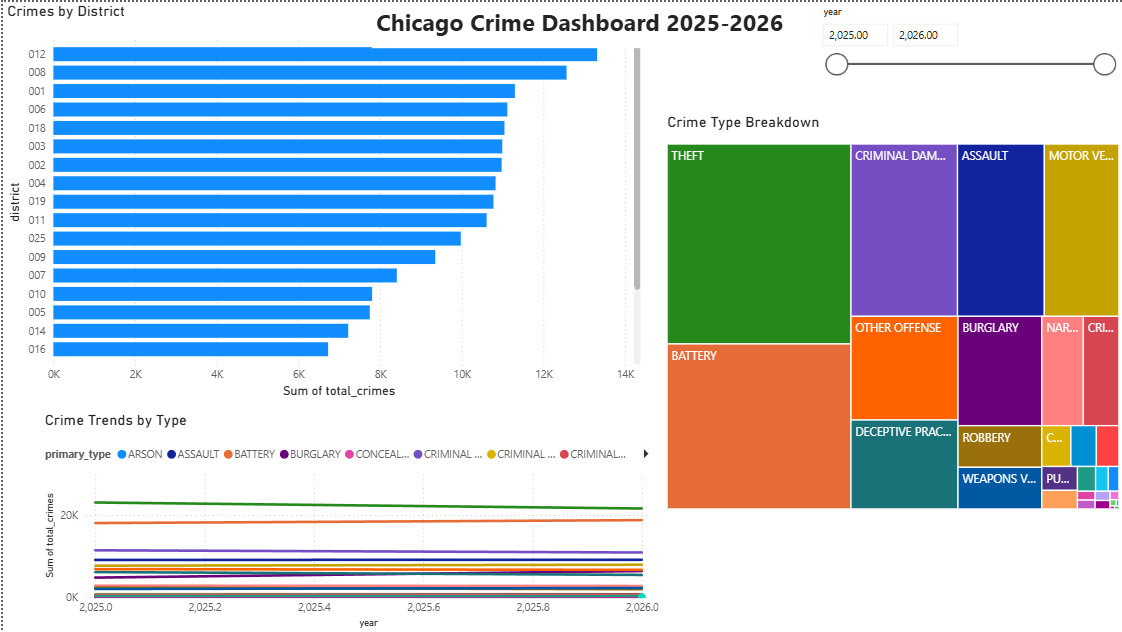

What the dashboard file says about the page in this screenshot:
{"tool":"powerbi","page":{"name":"Page 1","canvas":[1280,720],"ordinal":0},"visuals":[{"type":"clusteredBarChart","title":"Crimes by District","fields":{"Category":["mart_crimes_by_district.district"],"Y":["Sum(mart_crimes_by_district.total_crimes)"]},"box":[0,0,734.1,456.9],"z":0},{"type":"lineChart","title":"Crime Trends by Type","fields":{"Y":["Sum(mart_crimes_by_type_year.total_crimes)"],"Category":["mart_crimes_by_type_year.year"],"Series":["mart_crimes_by_type_year.primary_type"]},"box":[42.9,467.1,711.4,252.9],"z":1},{"type":"treemap","title":"Crime Type Breakdown","fields":{"Group":["mart_crimes_by_type_year.primary_type"],"Values":["Sum(mart_crimes_by_type_year.total_crimes)"]},"box":[754.3,127.1,526,457],"z":2},{"type":"slicer","fields":{"Values":["mart_crimes_by_district.year"]},"box":[924.3,0,355.7,127.1],"z":3},{"type":"textbox","box":[421.4,0,485.7,52.9],"z":5}]}

Visuals, with their boxes in screenshot pixels (x1, y1, x2, y2), scaled from the page's 1280x720 canvas onto the 1122x632 screenshot:
"Crimes by District" clusteredBarChart: box=[0, 0, 643, 401]
"Crime Trends by Type" lineChart: box=[38, 410, 661, 631]
"Crime Type Breakdown" treemap: box=[661, 112, 1121, 513]
slicer - mart_crimes_by_district.year: box=[810, 0, 1121, 112]
textbox: box=[369, 0, 795, 46]
